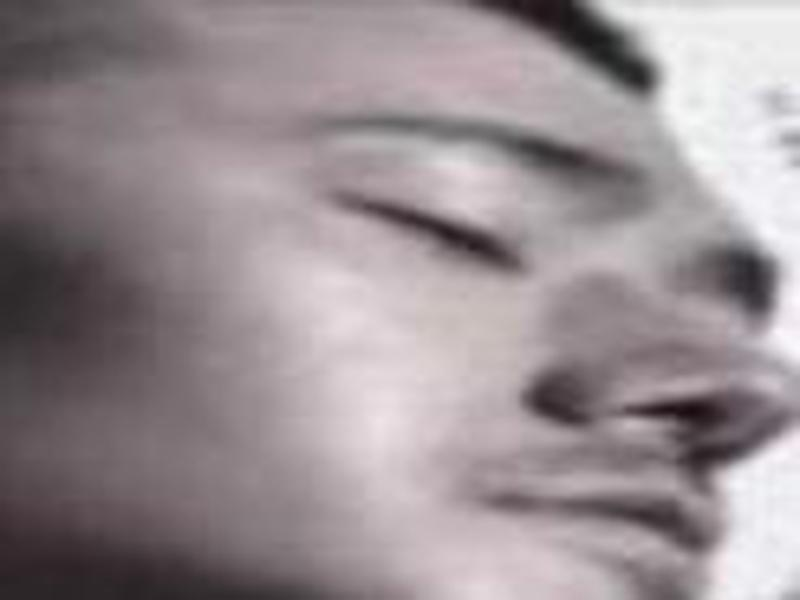without_mask: (8, 4, 800, 593)
